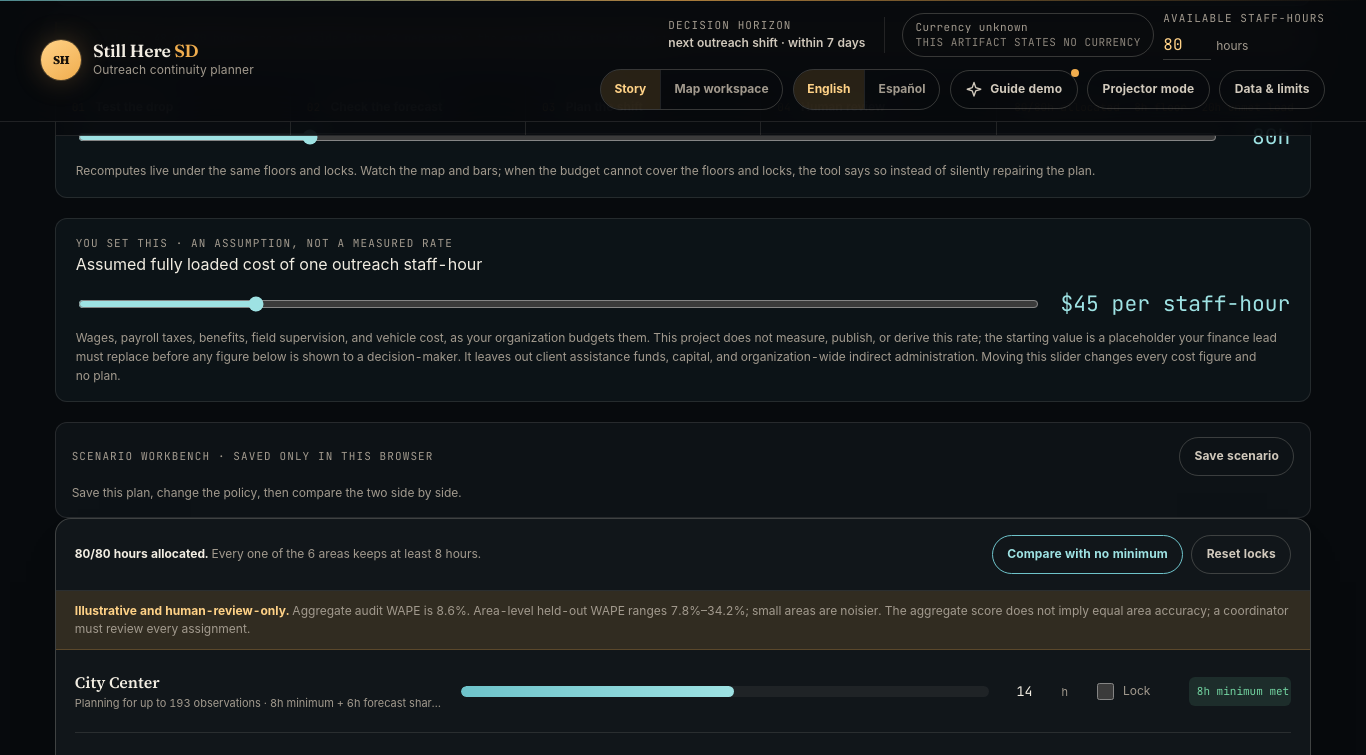
Scenario: scenario workbench › shows per-area hour differences against a pinned saved scenario
(page scrolled)
expect the text "80/80 hours allocated." is shown: met, box 75,546 -> 208,561
Click the button "Save scenario": (1237, 456) 1179,437 -> 1294,476
(page scrolled)
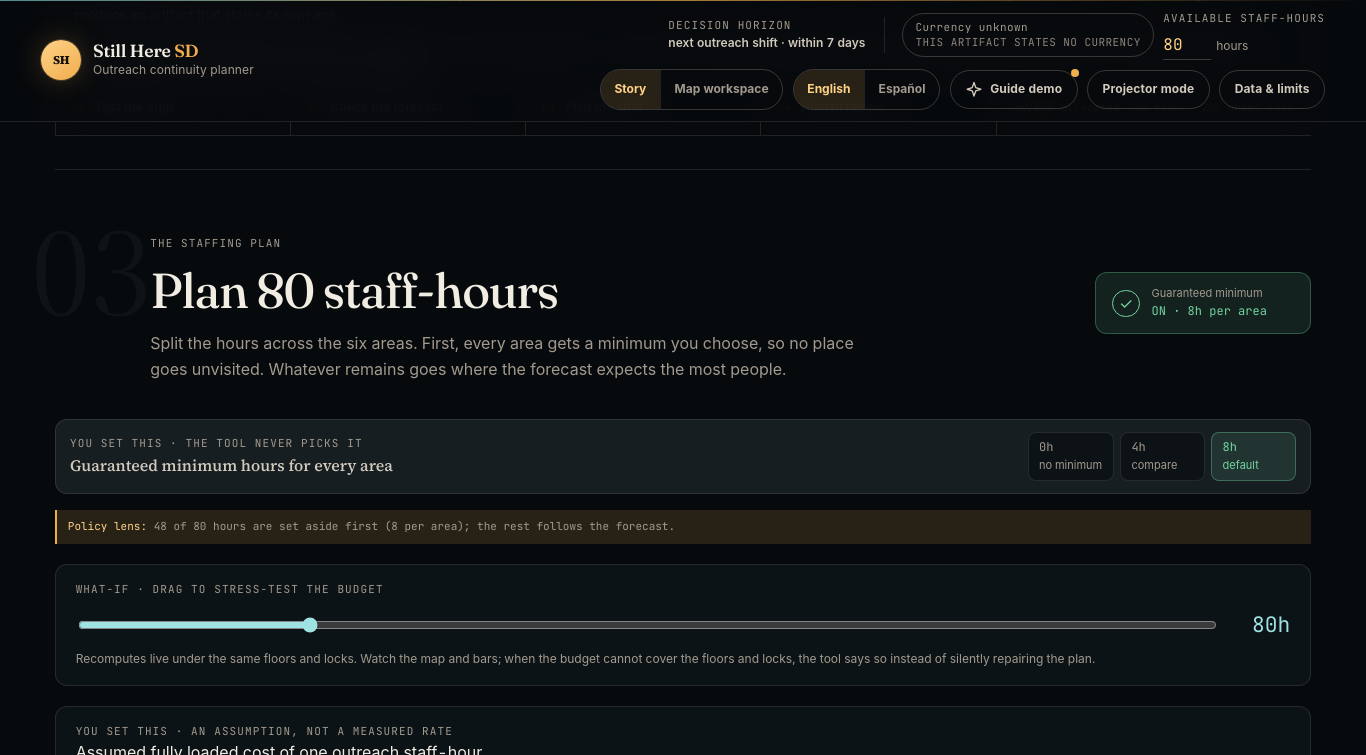
Click the button "0h no minimum": (1071, 456) 1028,432 -> 1114,481
(page scrolled)
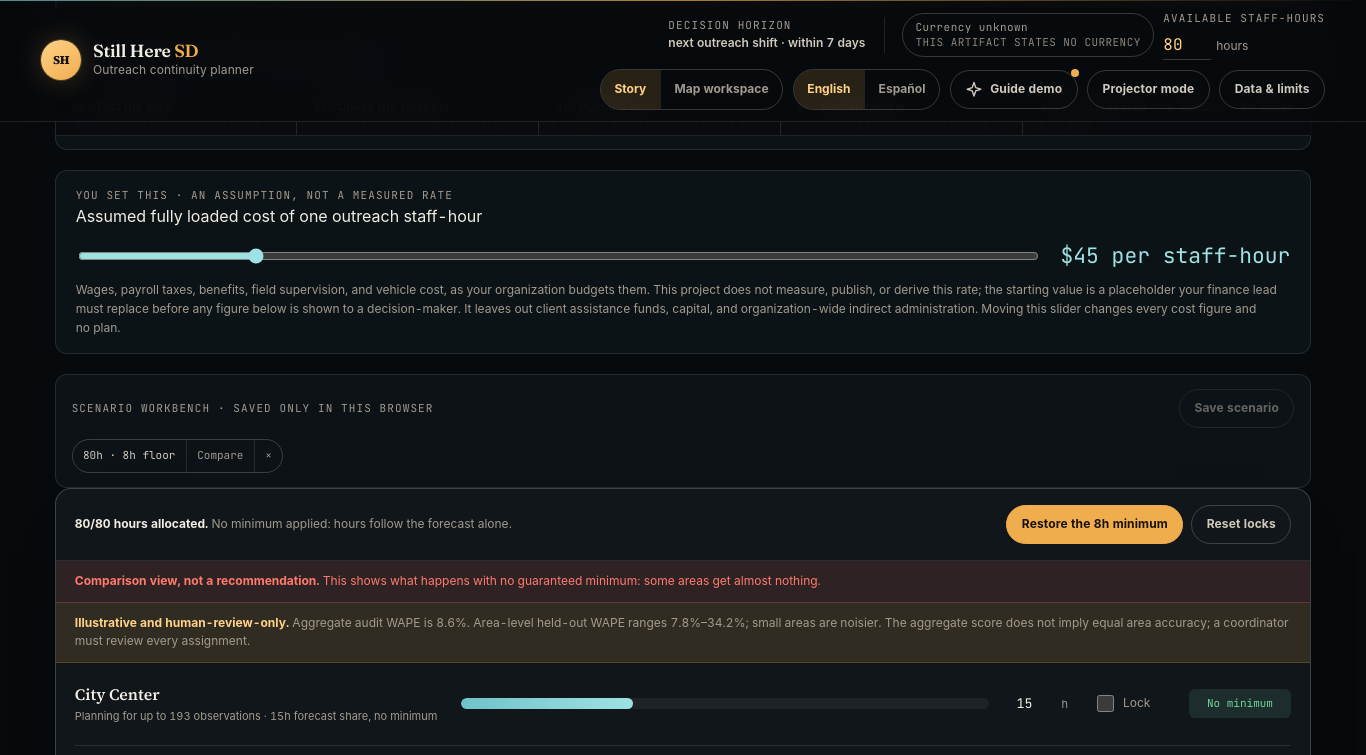
Click the button "Compare": (220, 456) 186,440 -> 254,472
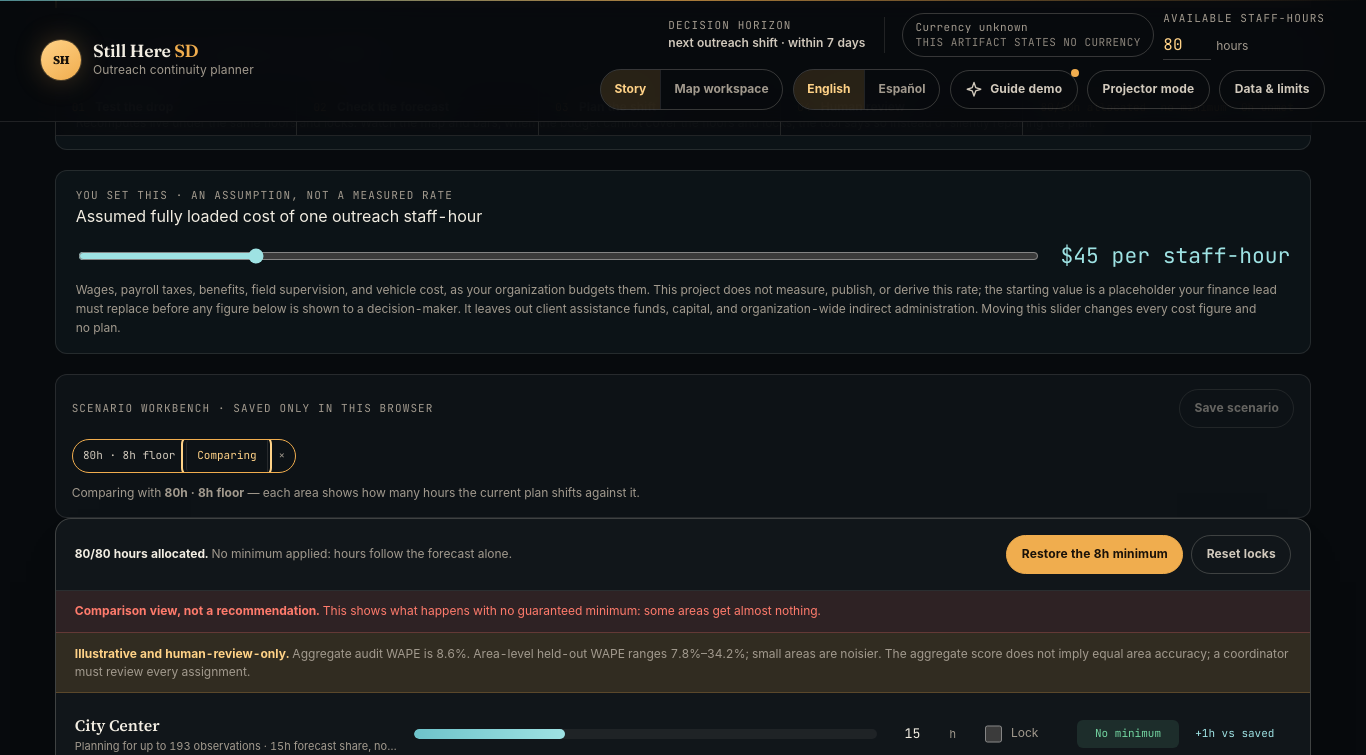
expect the text "Comparing with" shows "80h · 8h floor": met, box 165,485 -> 244,500
expect the text "+1h vs saved" is shown 6 times: met
expect the text "+1h vs saved" is shown: met, box 1195,726 -> 1274,740
